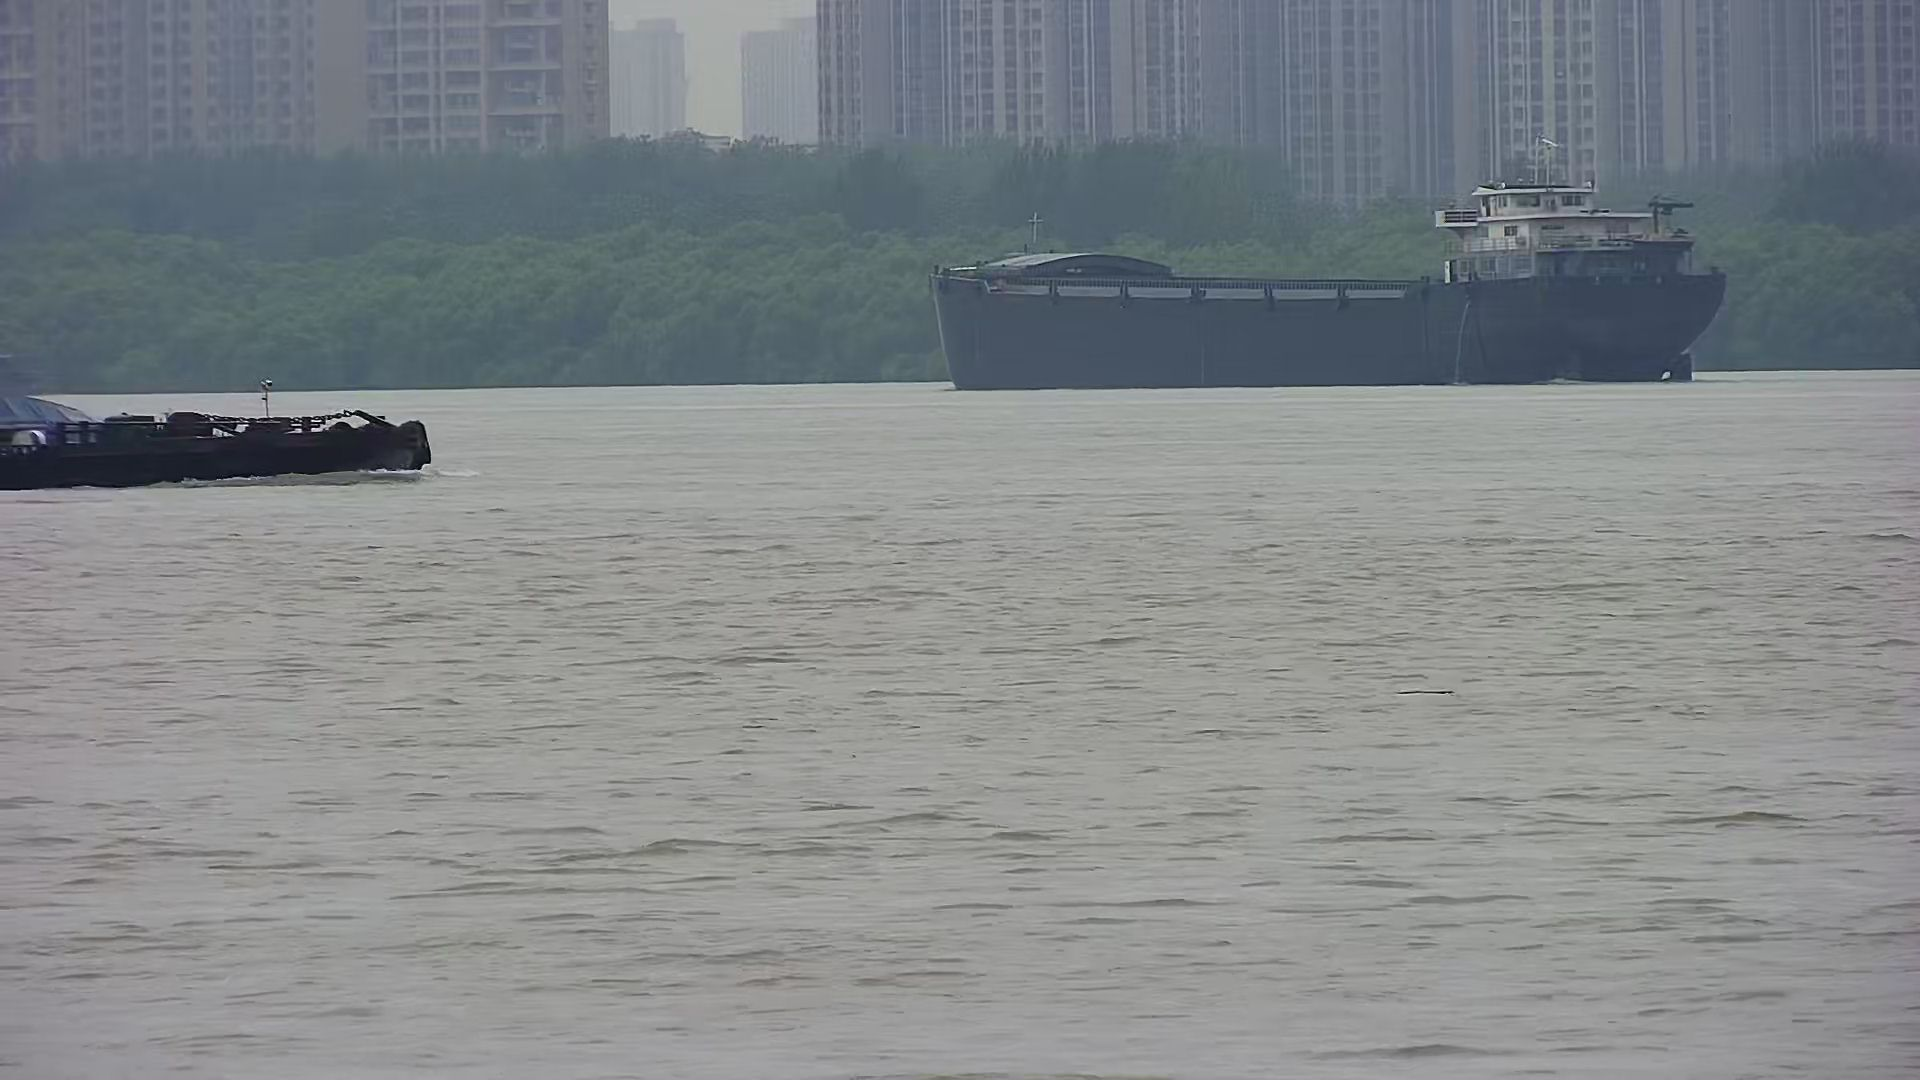ship: (927, 152, 1730, 386), (1, 386, 433, 495)
